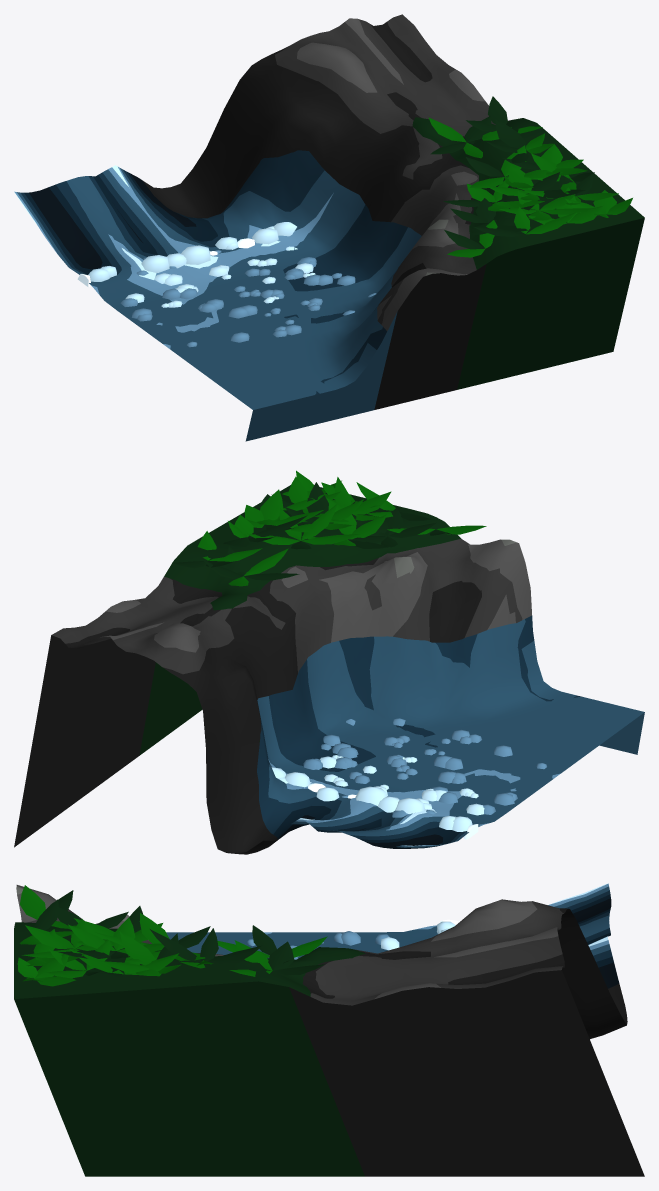
File: torm_fall_br_269.glb
3 views of the same model, one above another, from view 1: azimuth 30°, elevation 25°; view 2: azimuth 150°, elevation 25°; view 3: azimuth 270°, elevation 25° (orthographic). The views are drawn at different scales.
Visible parts, largest first — view 1: torm_fall_br_269; view 2: torm_fall_br_269; view 3: torm_fall_br_269.
Part boxes in pixels (box(x1,y1,x2,y2)): torm_fall_br_269: box(14, 14, 644, 441); torm_fall_br_269: box(14, 470, 644, 854); torm_fall_br_269: box(14, 883, 644, 1176).
Size of the model in its own units: 24 by 12.18 by 31.57.
